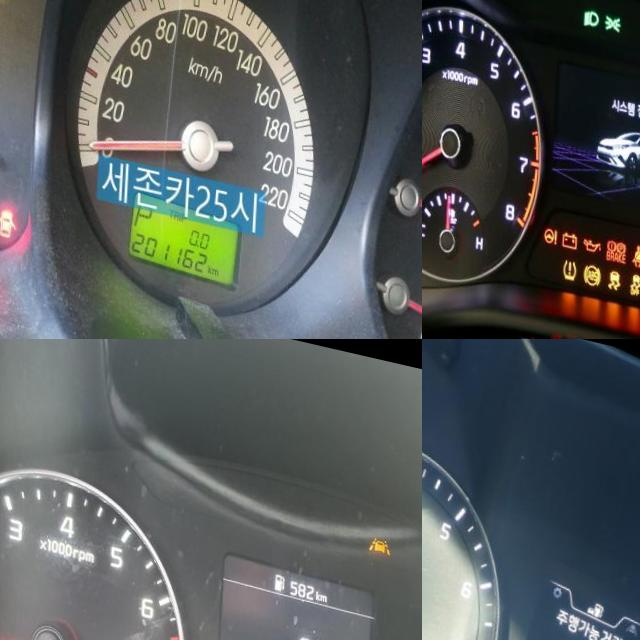Doors: (0, 199, 20, 230)
LaneCenteringOff: (370, 516, 392, 536)
Low beam: (583, 0, 601, 16)
SideLamp: (605, 0, 622, 18)
